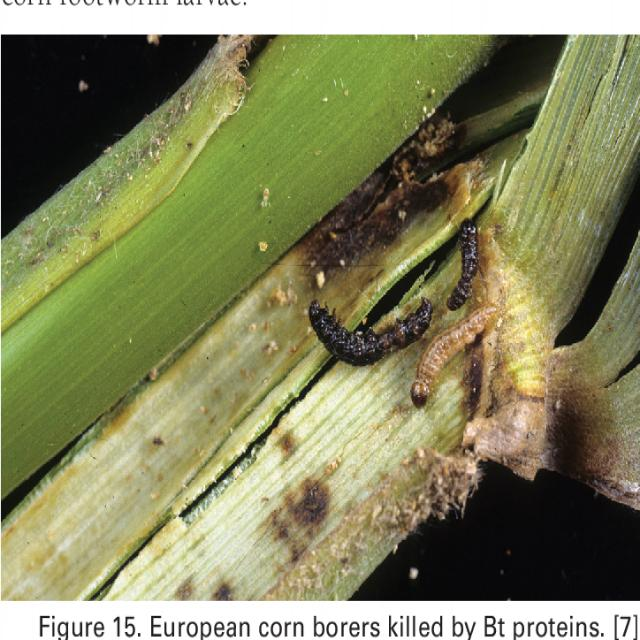cornborer-Larva-: (402, 297, 507, 416)
